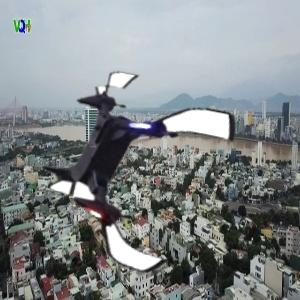drone: (33, 72, 237, 276)
